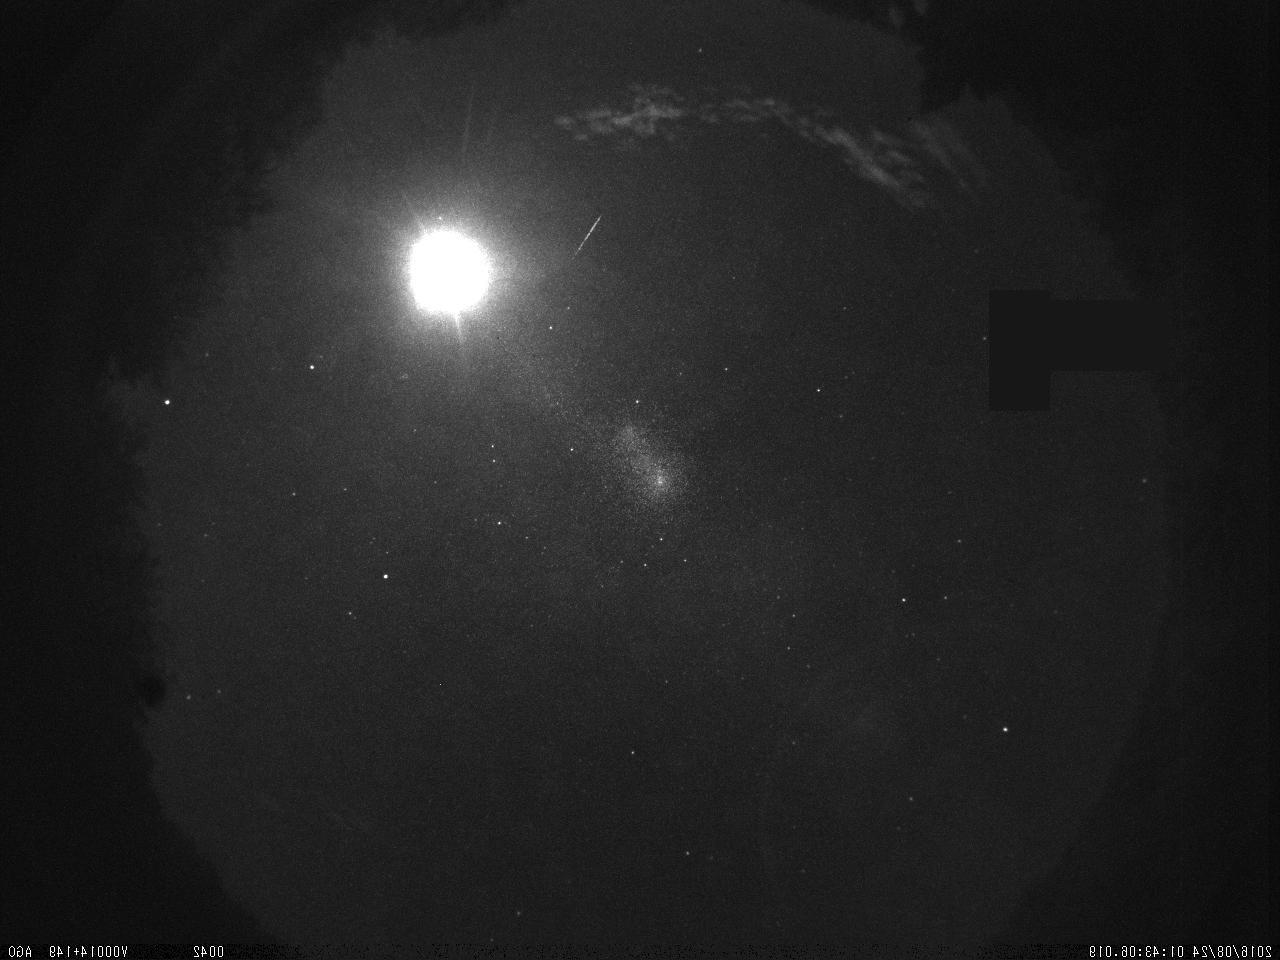meteor: (556, 207, 610, 275)
